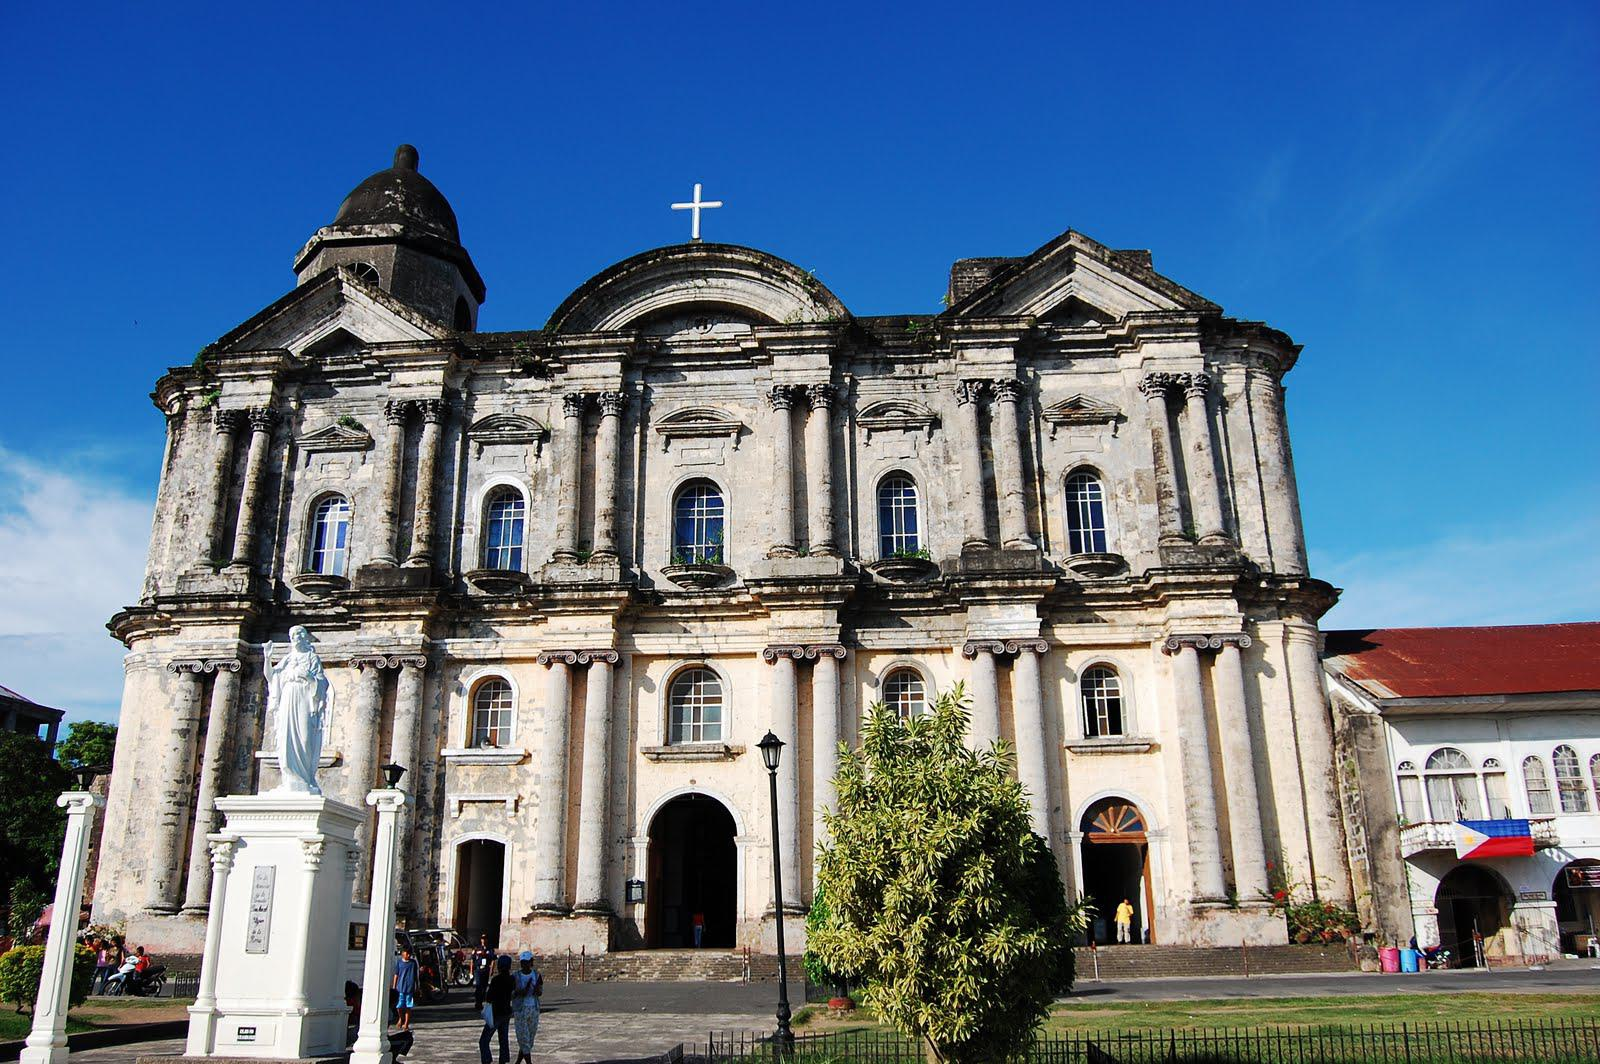taal_basilica_church_taal_batangas: (97, 129, 1361, 959)
